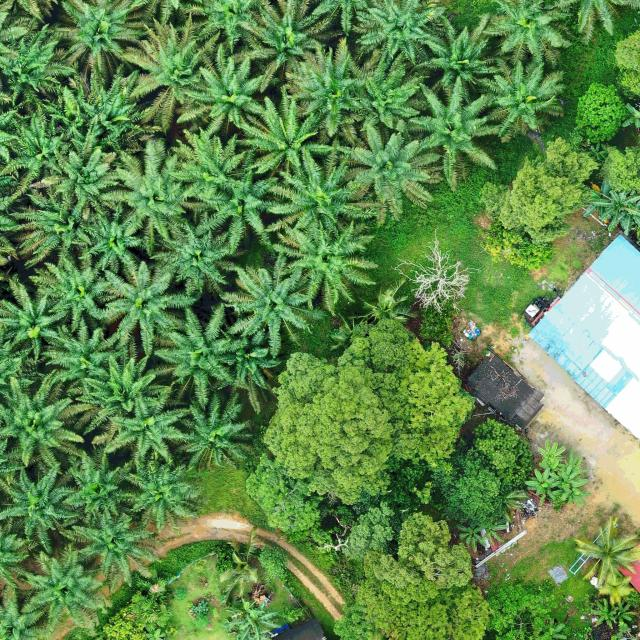Tree: (332, 508, 494, 640), (336, 317, 477, 466), (263, 350, 397, 500), (478, 135, 602, 241), (117, 9, 225, 128), (407, 69, 502, 194), (266, 220, 380, 318), (217, 251, 325, 352), (344, 119, 445, 222), (98, 259, 199, 361), (149, 299, 247, 403), (259, 143, 364, 240), (282, 32, 372, 140), (230, 0, 335, 92), (165, 122, 254, 230), (173, 38, 269, 138), (230, 84, 334, 176), (97, 135, 189, 238), (73, 348, 174, 438), (62, 504, 167, 590), (468, 52, 566, 141), (7, 189, 110, 271), (0, 374, 84, 474), (50, 0, 156, 75), (152, 216, 248, 297), (22, 248, 114, 332), (0, 461, 82, 555), (193, 166, 280, 254), (18, 543, 105, 631), (65, 64, 151, 153), (0, 16, 79, 111), (433, 436, 514, 526), (118, 452, 204, 536), (95, 392, 193, 464), (169, 392, 253, 473), (343, 50, 428, 130), (478, 0, 574, 70), (0, 105, 76, 193), (348, 0, 449, 65), (417, 17, 498, 98), (40, 313, 130, 385), (29, 140, 124, 203), (59, 448, 135, 524), (0, 277, 65, 358), (73, 202, 146, 274), (573, 514, 640, 586), (217, 327, 281, 400), (472, 415, 535, 483), (576, 81, 630, 143), (222, 600, 283, 640), (552, 448, 593, 507), (590, 189, 640, 236), (582, 180, 620, 219), (526, 468, 558, 504), (456, 523, 486, 552), (481, 518, 509, 548), (537, 440, 568, 466), (591, 598, 617, 629), (610, 602, 633, 626)
